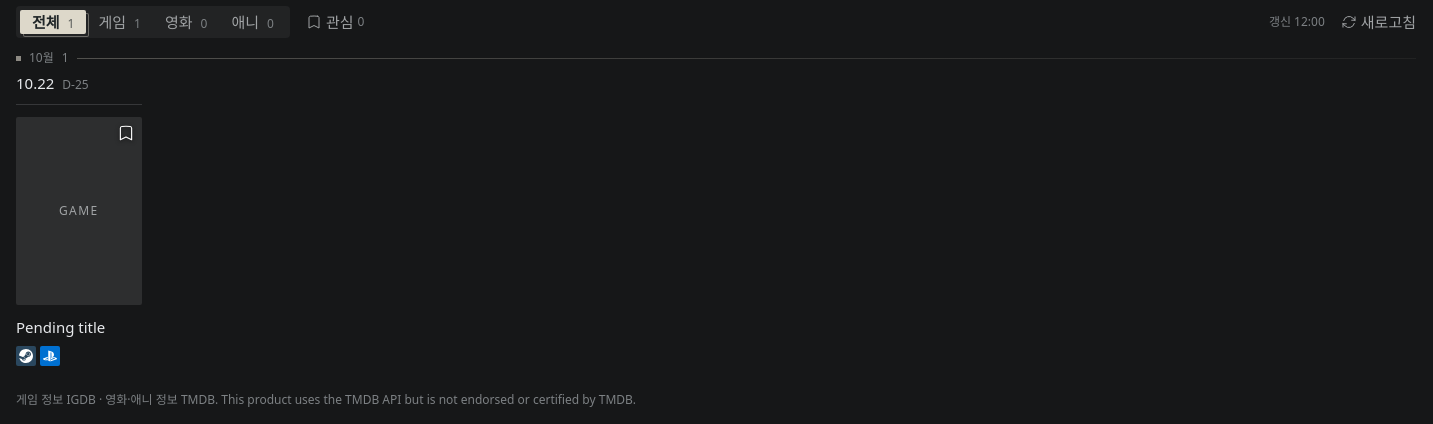
Test: server calendar handover › shows a pending wishlist add immediately while retaining the covers
expect the text "Pending title" is shown: met, box [16,317,105,337]
Click the button named "Pending title 관심 목록에 추가" at (126, 133), box [110,117,142,149]
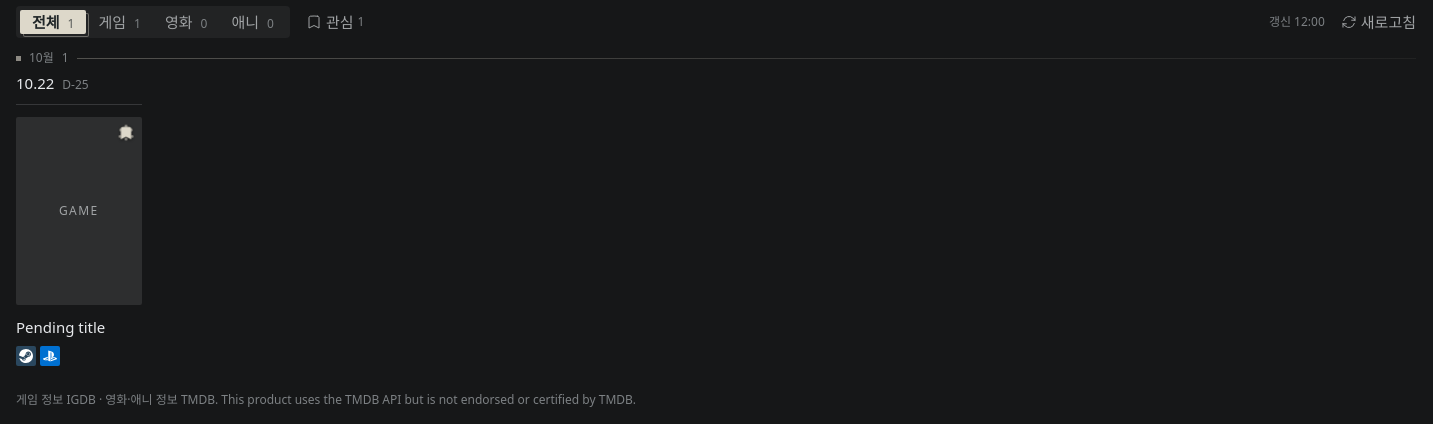
expect the text "Pending title" is shown: met, box [16,317,105,337]
expect the button named "Pending title 관심 목록에서 빼기" is shown: met, box [110,117,142,149]
